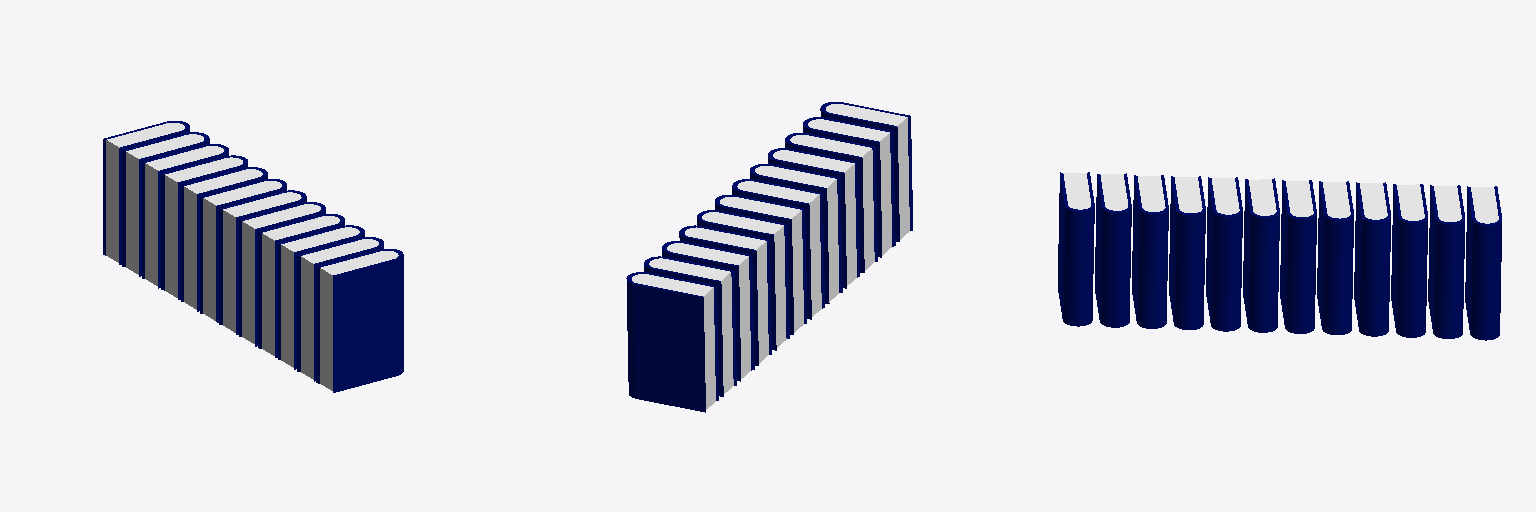
The model's file is books.obj.
3 views of the same model, side by side, from view 1: azimuth 30°, elevation 25°; view 2: azimuth 150°, elevation 25°; view 3: azimuth 270°, elevation 25° (orthographic).
Parts seen in each view (by area): view 1: Cylinder.001; view 2: Cylinder.001; view 3: Cylinder.001.
Boxes of the visible parts, x1,y1,x2,y2 form: Cylinder.001: [103, 121, 403, 392]; Cylinder.001: [626, 102, 912, 412]; Cylinder.001: [1058, 172, 1501, 340].
Bounding box in the file's own units: 0.3625 × 0.5144 × 1.53.